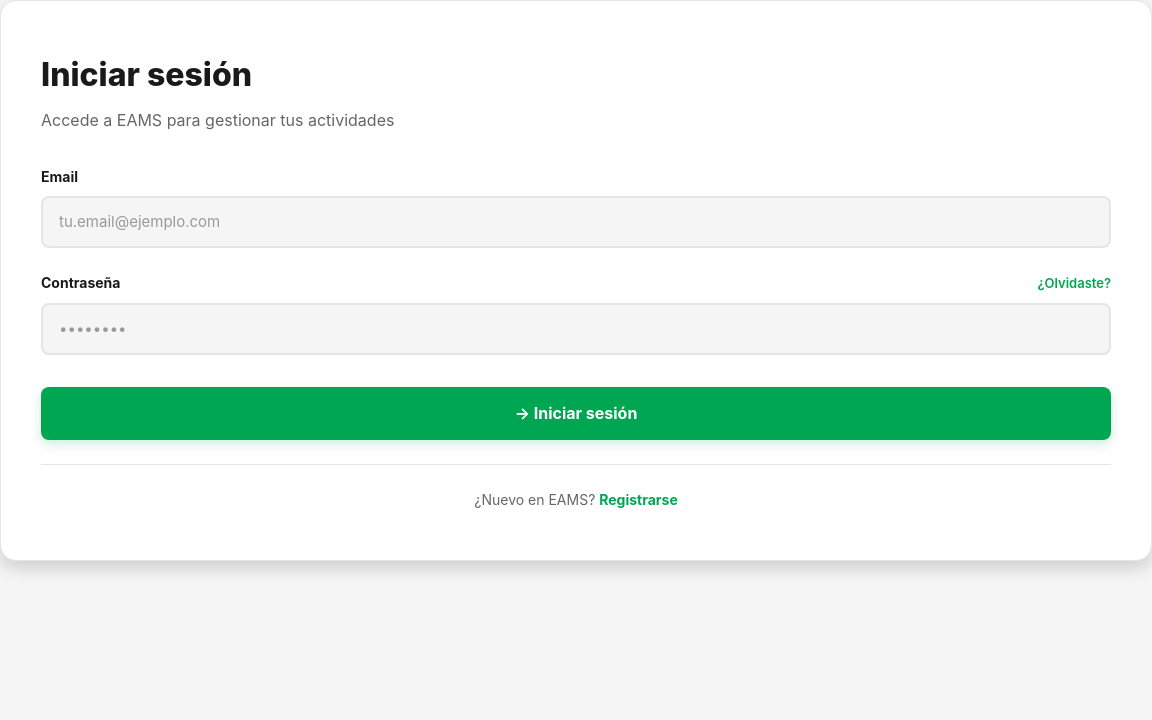
Test case: LoginForm › should disable button during submission
This screenshot has width=1152, height=720.
Type "test@example.com" into the field labelled "Email" at (576,222), box [41, 196, 1111, 248]
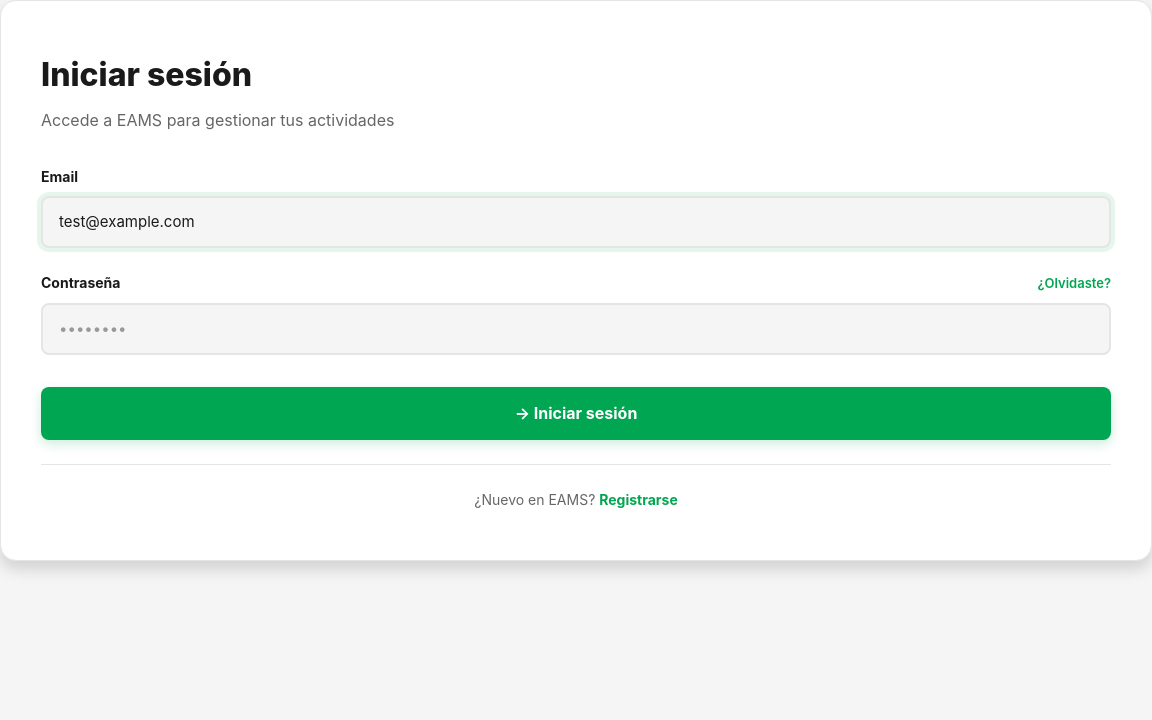
Type "password123" into the password field labelled "Contraseña" at (576,329), box [41, 303, 1111, 355]
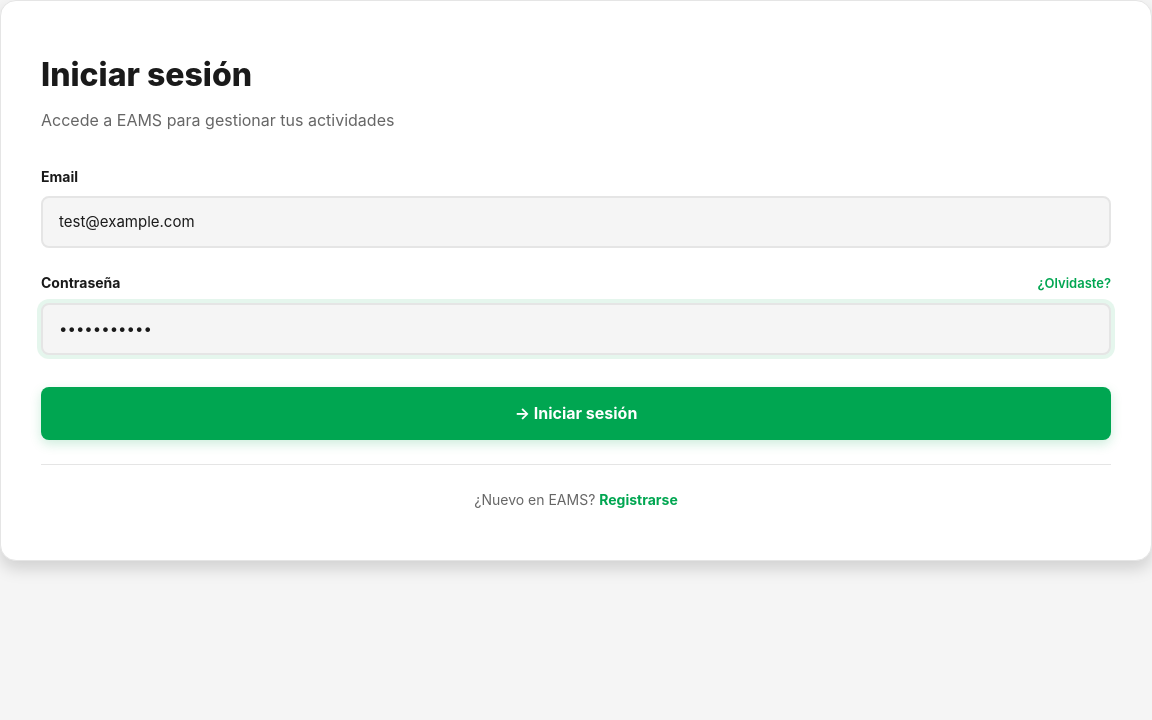
Click the button "→ Iniciar sesión" at (576,413), box [41, 387, 1111, 440]
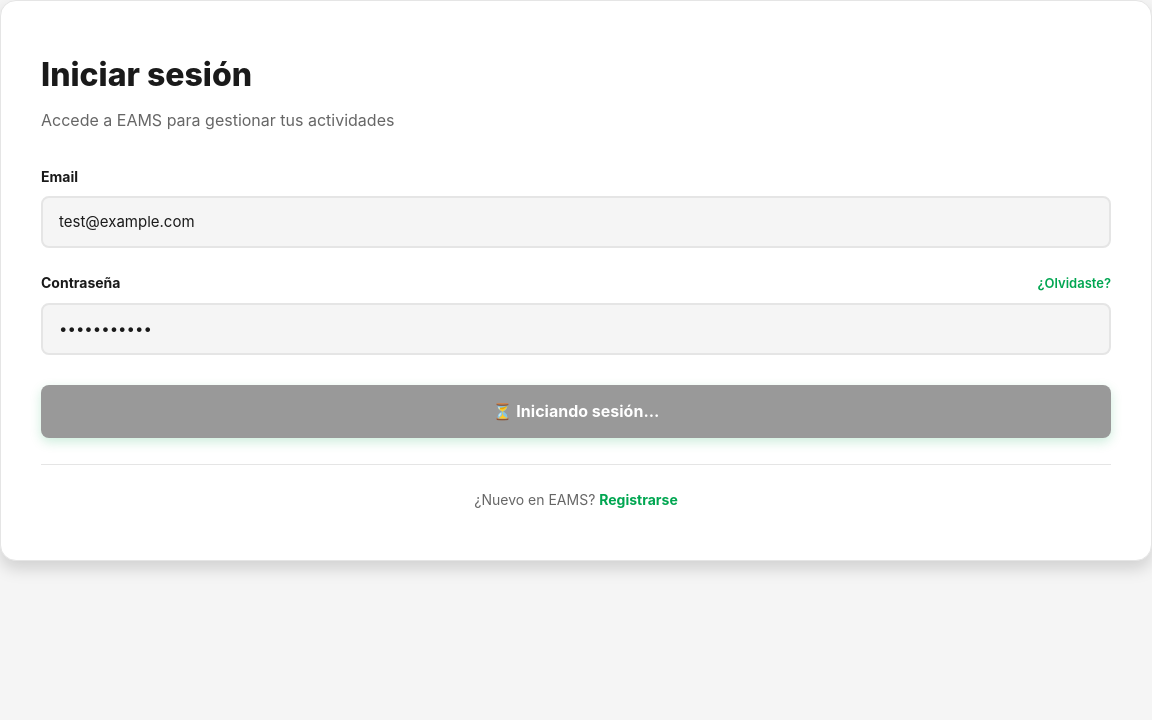
Expected: the button named "iniciar sesión" is disabled, [41, 385, 1111, 438]
